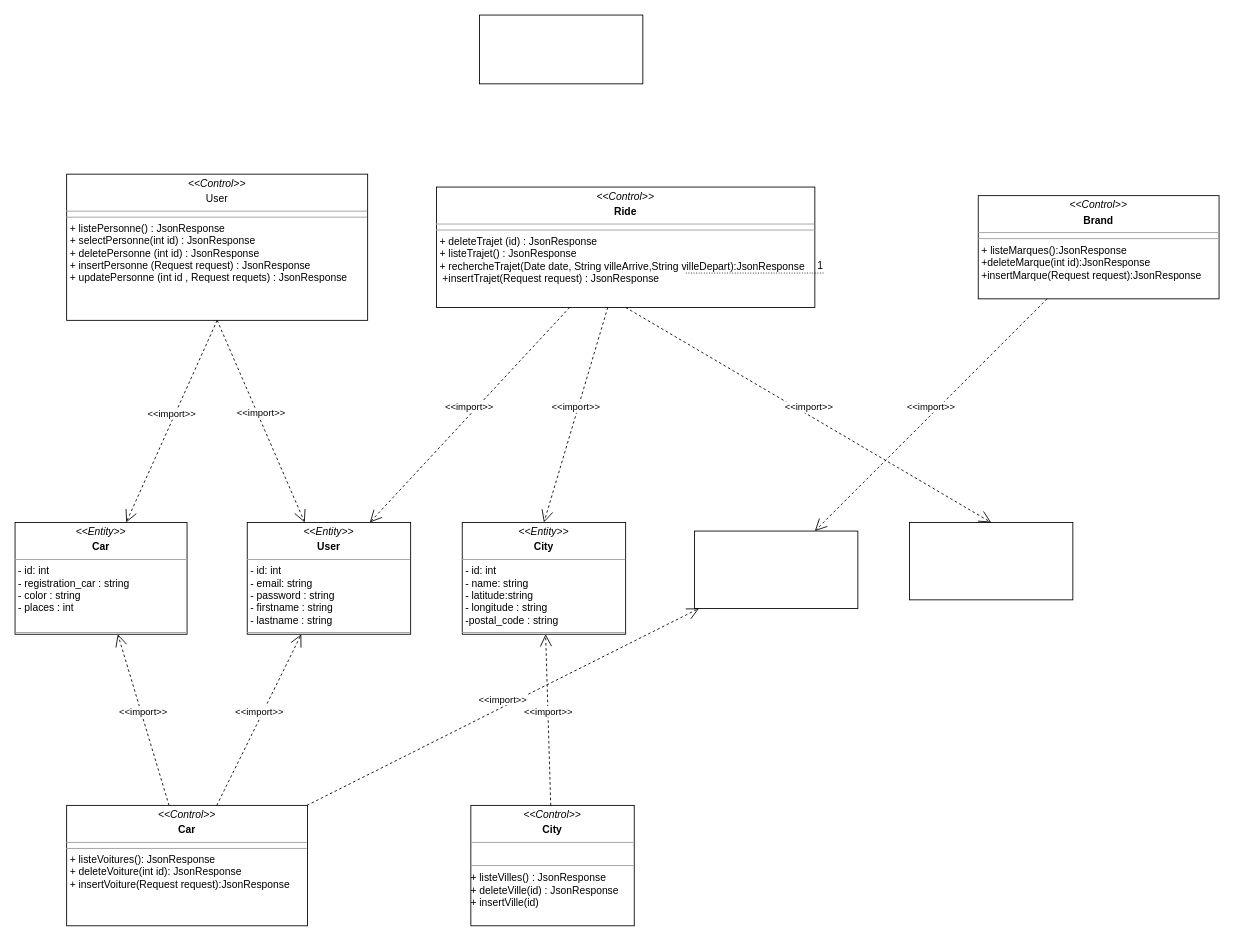
Some shapes in this 1234 by 941 pixel diagram are drawn without their labels. The shapes that lost their labels are listed below. From the top down, each one's centre as x and y in pixels, then its label:
At (x=561, y=49): "<<ORM>> Doctrine".
At (x=776, y=569): "<<Entity>> Brand - id: int - name: string".
At (x=991, y=561): "<<Entity>> Ride - id: int - name: string".
